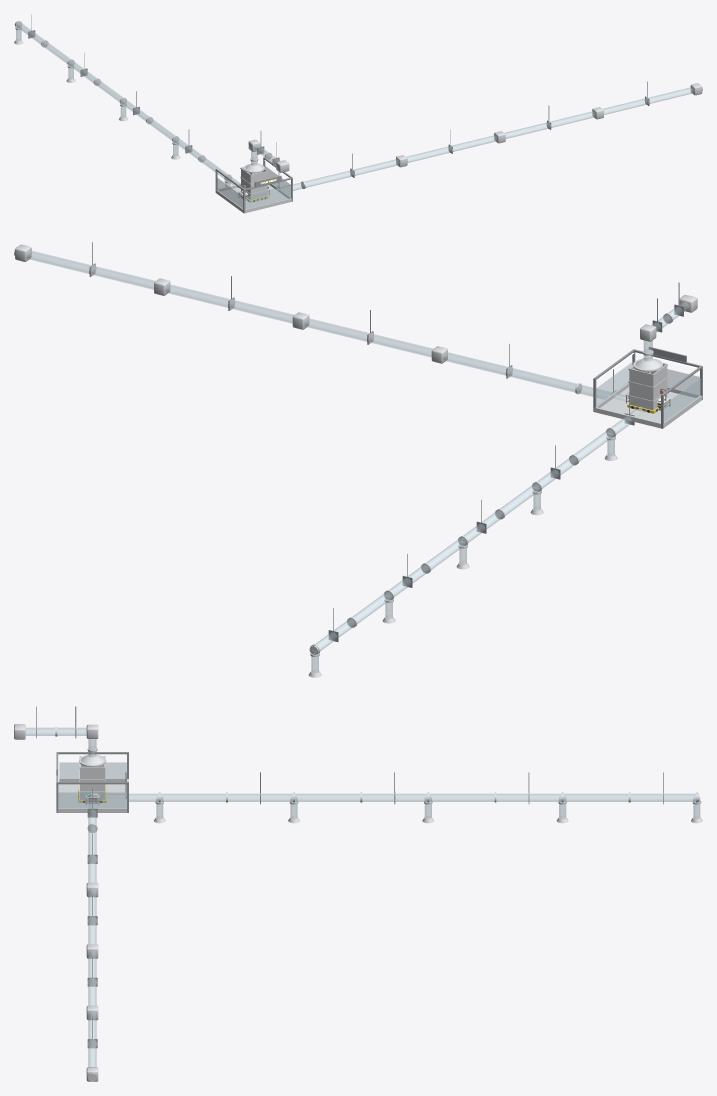
Rendered from WChewsKit_01.glb.
3 views of the same model, one above another, from view 1: azimuth 30°, elevation 25°; view 2: azimuth 150°, elevation 25°; view 3: azimuth 270°, elevation 25° (orthographic). The views are drawn at different scales.
Parts seen in each view (by area): view 1: WcTubeTrunk_Glass, WcTubeBranch_Glass, WcBay_Glass, WcBay_Tray, WcTubeTrunk_Collars, WcTubeBranch_Collars, WcChute_Duct, WcBay_Frame, WcTubeIntake_Collars, WcTubeBranch_Hangers; view 2: WcTubeTrunk_Glass, WcTubeBranch_Glass, WcBay_Tray, WcBay_Glass, WcTubeBranch_Collars, WcChute_Duct, WcTubeTrunk_Collars, WcBay_Frame, WcTubeIntake_Collars; view 3: WcTubeBranch_Glass, WcTubeTrunk_Glass, WcBay_Glass, WcBay_Tray, WcTubeTrunk_Collars, WcTubeBranch_Collars, WcChute_Duct, WcTubeIntake_Collars, WcBay_Frame, WcTubeIntake_Glass.
Boxes of the visible parts, <box> form: WcTubeTrunk_Glass: <box>268,87,693,191</box>; WcTubeBranch_Glass: <box>16,22,240,188</box>; WcBay_Glass: <box>217,166,291,209</box>; WcBay_Tray: <box>216,183,291,212</box>; WcTubeTrunk_Collars: <box>301,83,702,188</box>; WcTubeBranch_Collars: <box>14,21,231,183</box>; WcChute_Duct: <box>240,163,268,200</box>; WcBay_Frame: <box>215,157,292,213</box>; WcTubeIntake_Collars: <box>243,139,289,173</box>; WcTubeBranch_Hangers: <box>28,14,240,187</box>; WcTubeTrunk_Glass: <box>27,250,628,401</box>; WcTubeBranch_Glass: <box>311,407,643,672</box>; WcBay_Tray: <box>593,382,702,428</box>; WcBay_Glass: <box>596,361,701,422</box>; WcTubeBranch_Collars: <box>308,427,617,677</box>; WcChute_Duct: <box>628,358,667,410</box>; WcTubeTrunk_Collars: <box>14,244,582,394</box>; WcBay_Frame: <box>593,347,702,428</box>; WcTubeIntake_Collars: <box>633,294,697,371</box>; WcTubeBranch_Glass: <box>106,793,700,818</box>; WcTubeTrunk_Glass: <box>88,810,96,1066</box>; WcBay_Glass: <box>58,762,126,808</box>; WcBay_Tray: <box>56,778,128,812</box>; WcTubeTrunk_Collars: <box>86,823,98,1081</box>; WcTubeBranch_Collars: <box>154,792,702,823</box>; WcChute_Duct: <box>79,756,105,799</box>; WcTubeIntake_Collars: <box>14,724,106,766</box>; WcBay_Frame: <box>56,752,128,812</box>; WcTubeIntake_Glass: <box>25,727,96,757</box>.
Bounding box in the file's own units: 250 × 45.1 × 246.
